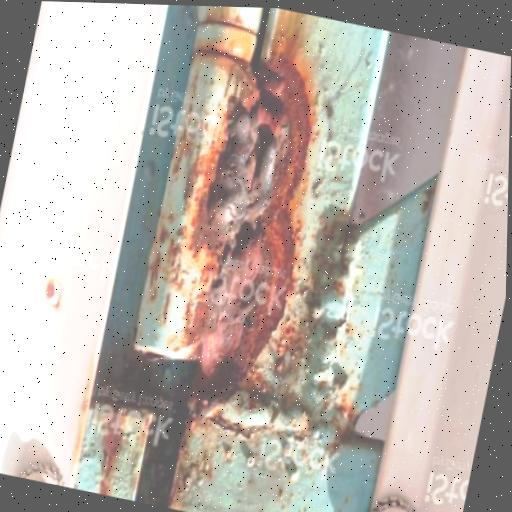corrosion: (173, 66, 337, 417)
